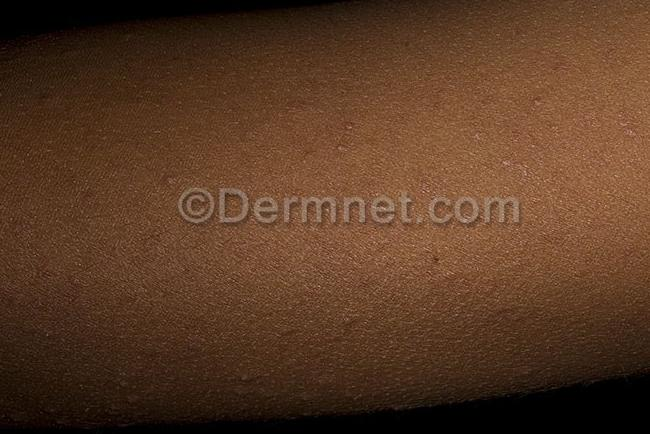edema 1: (0, 61, 650, 424)
xerosis 1: (0, 0, 650, 433)
